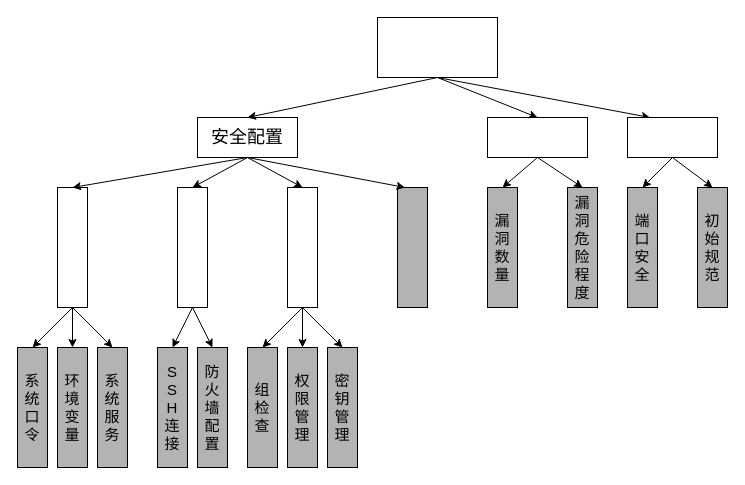
The diagram is 745 pixels wide and 485 high, and some of its shapes have lost their labels. Here are the shapes that lost their labels. From the top down, the centre of each, then its label:
(x=437, y=47): 终端安全基线
(x=537, y=137): 安全漏洞
(x=672, y=137): 系统状态
(x=72, y=247): 系统安全
(x=192, y=247): 网络安全
(x=302, y=247): 用户安全
(x=412, y=247): 审计规范
